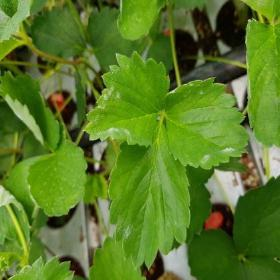Powdery Mildew Leaf: (108, 115, 190, 270), (83, 51, 170, 148), (164, 77, 250, 170), (7, 255, 75, 279)
